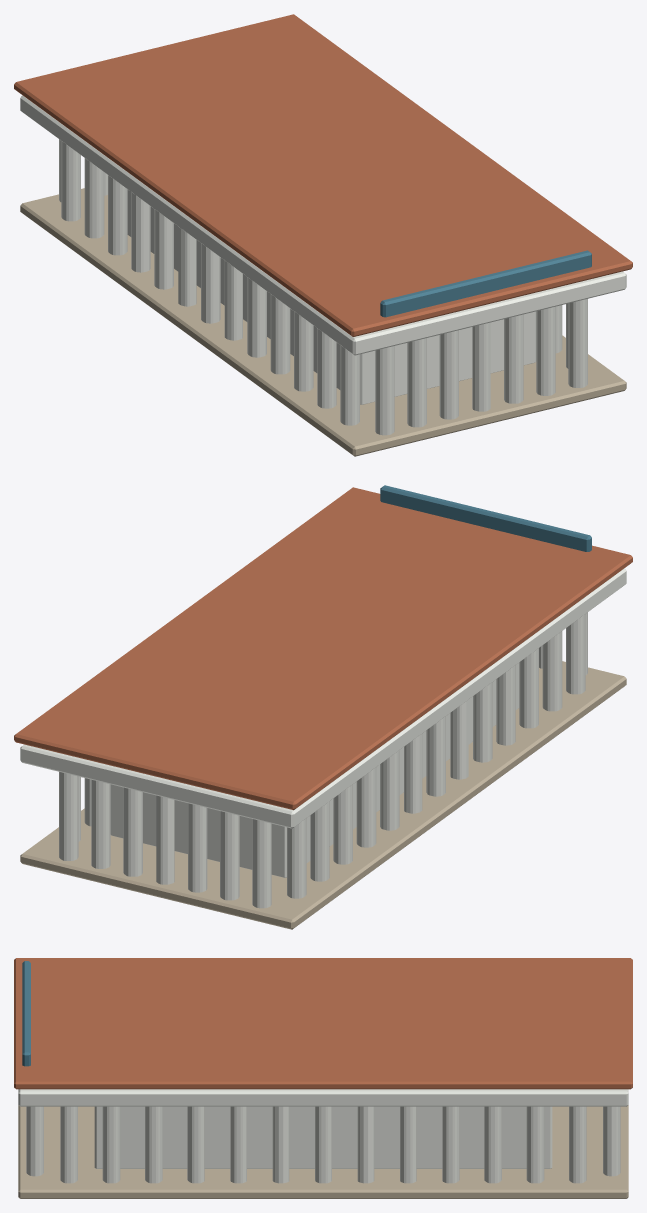
Rendered from parthenon_hero.glb.
3 renders of one model, top to bottom at view 1: azimuth 30°, elevation 25°; view 2: azimuth 150°, elevation 25°; view 3: azimuth 270°, elevation 25°, orthographic. The views are drawn at different scales.
Parts seen in each view (by area): view 1: stylobate; view 2: stylobate; view 3: stylobate.
Part boxes in pixels (<box>): stylobate: <box>14,14,632,456</box>; stylobate: <box>14,485,632,929</box>; stylobate: <box>14,958,632,1198</box>.
Bounding box in the file's own units: 35 × 17.2 × 73.
